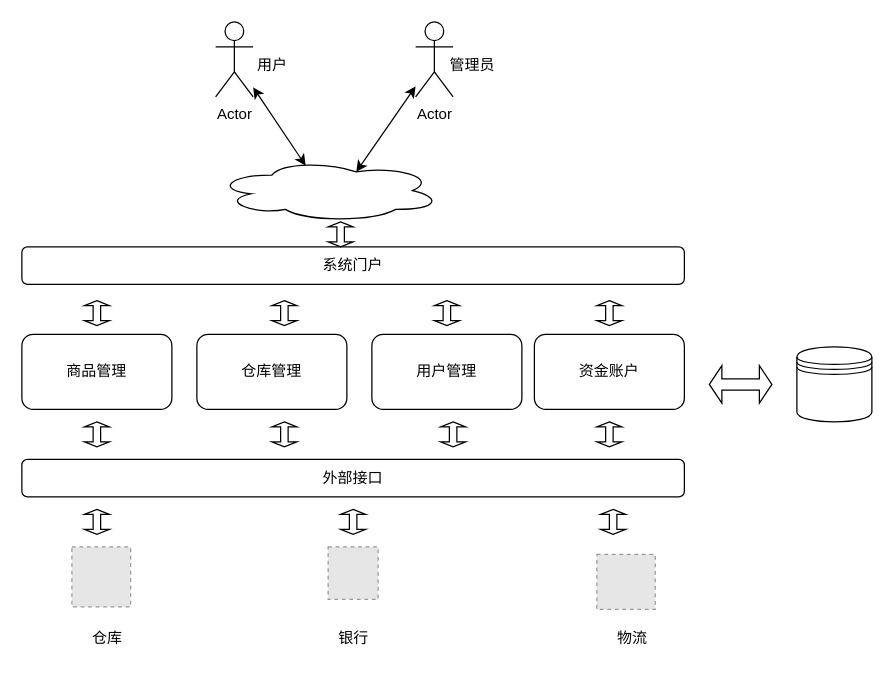
Image size: 894x679. Some labels were removed from this diagram. Grey dashed boxes stand in for pictures. Here are the shapes that lost their labels. From the top down, the centre of each, then its label:
At point (327, 190): "互联网".
At point (834, 384): "数据库".
